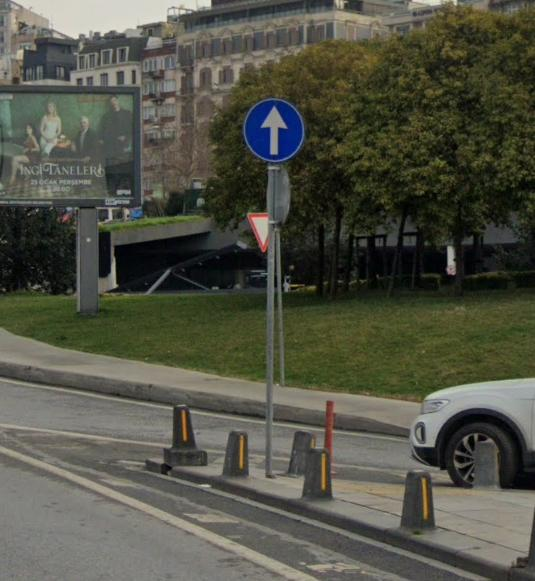forward: (245, 101, 302, 157)
